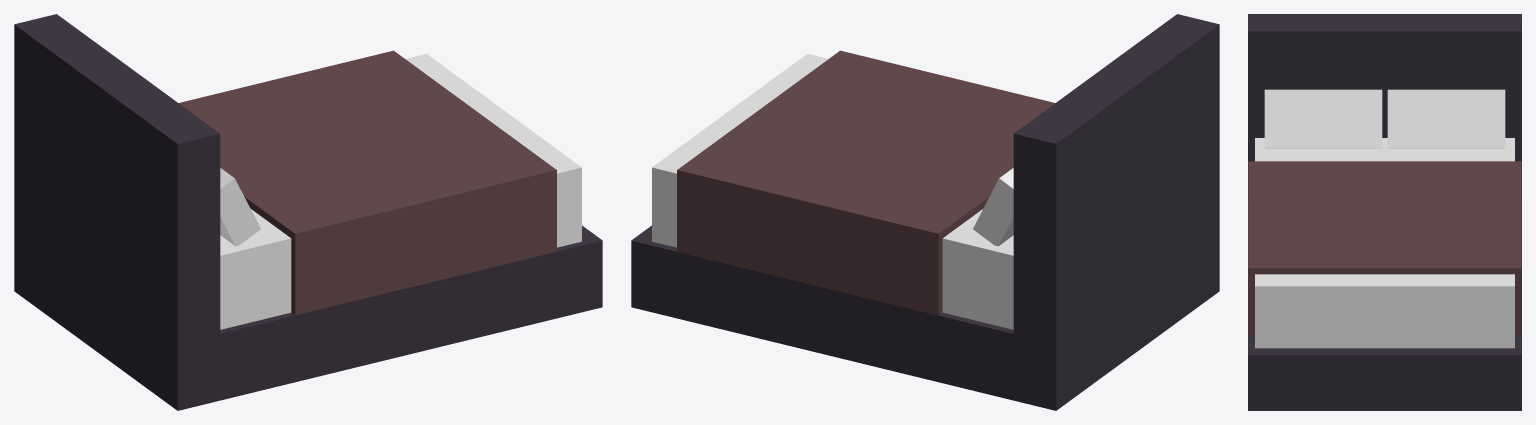
The model's file is Bed.fbx.
3 views of the same model, side by side, from view 1: azimuth 30°, elevation 25°; view 2: azimuth 150°, elevation 25°; view 3: azimuth 270°, elevation 25° (orthographic). The views are drawn at different scales.
Parts seen in each view (by area): view 1: pCube5; view 2: pCube5; view 3: pCube5.
Boxes of the visible parts, x1,y1,x2,y2 form: pCube5: (14,14,602,410); pCube5: (631,14,1219,410); pCube5: (1248,14,1521,410).
Bounding box in the file's own units: 3 × 1.8 × 2.
